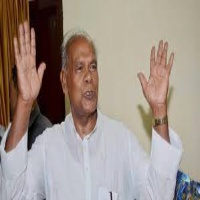ring: (17, 23, 27, 61), (161, 39, 168, 71)
